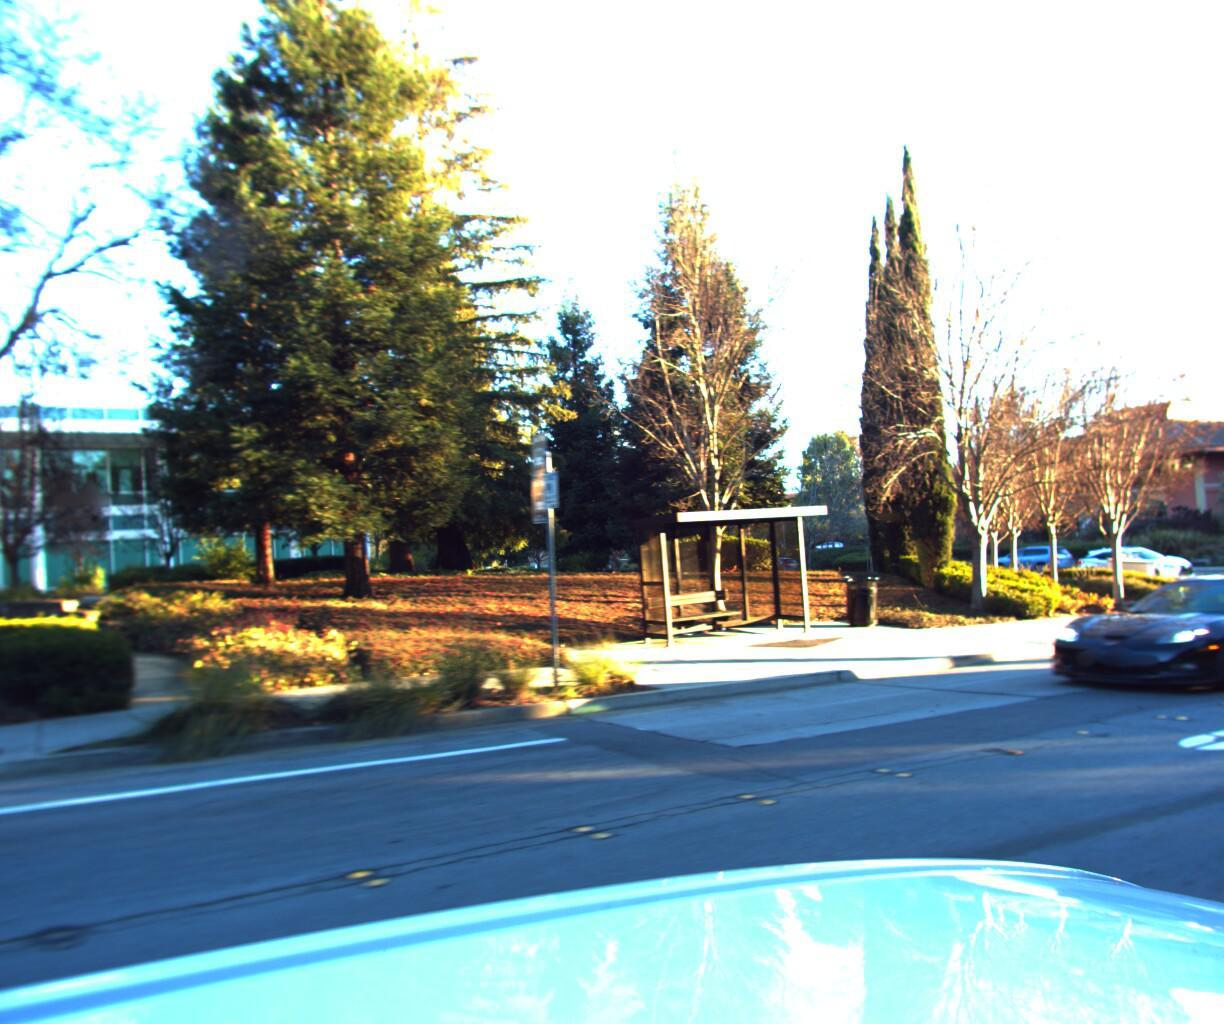car: (1030, 554, 1224, 701), (1062, 537, 1192, 585), (980, 539, 1076, 574)
